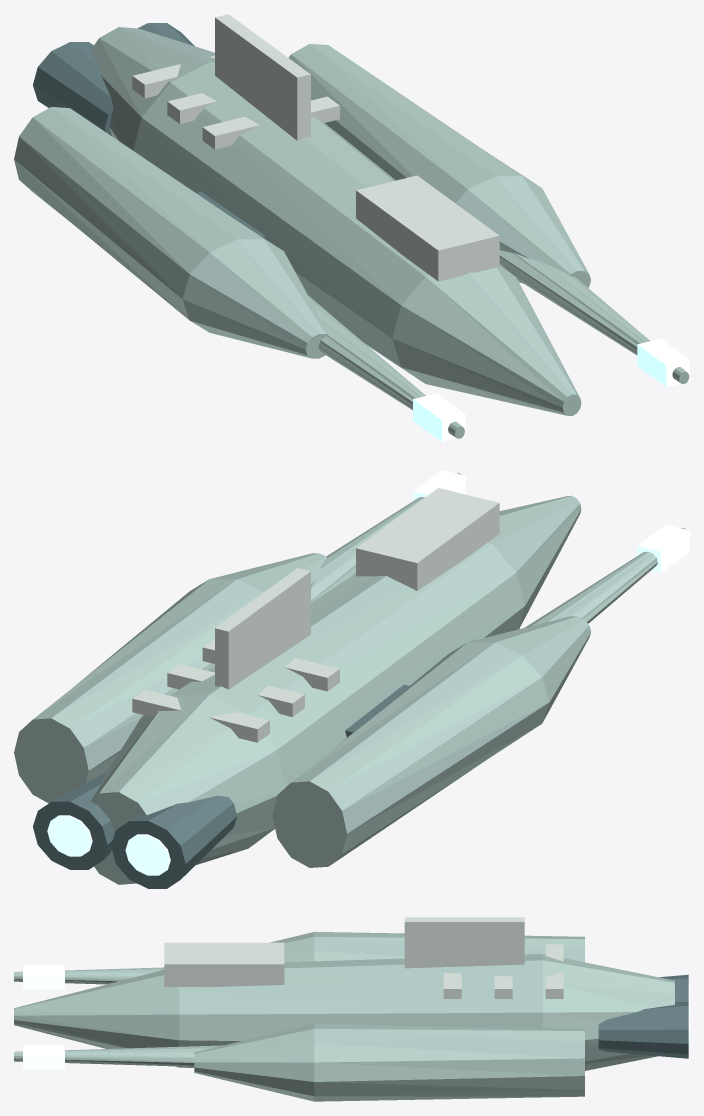
The picture shows the model from 3 angles, top to bottom: view 1: azimuth 30°, elevation 25°; view 2: azimuth 150°, elevation 25°; view 3: azimuth 270°, elevation 25°; orthographic projection. The views are drawn at different scales.
Size of the model in its own units: 2.16 by 1.18 by 4.72.
